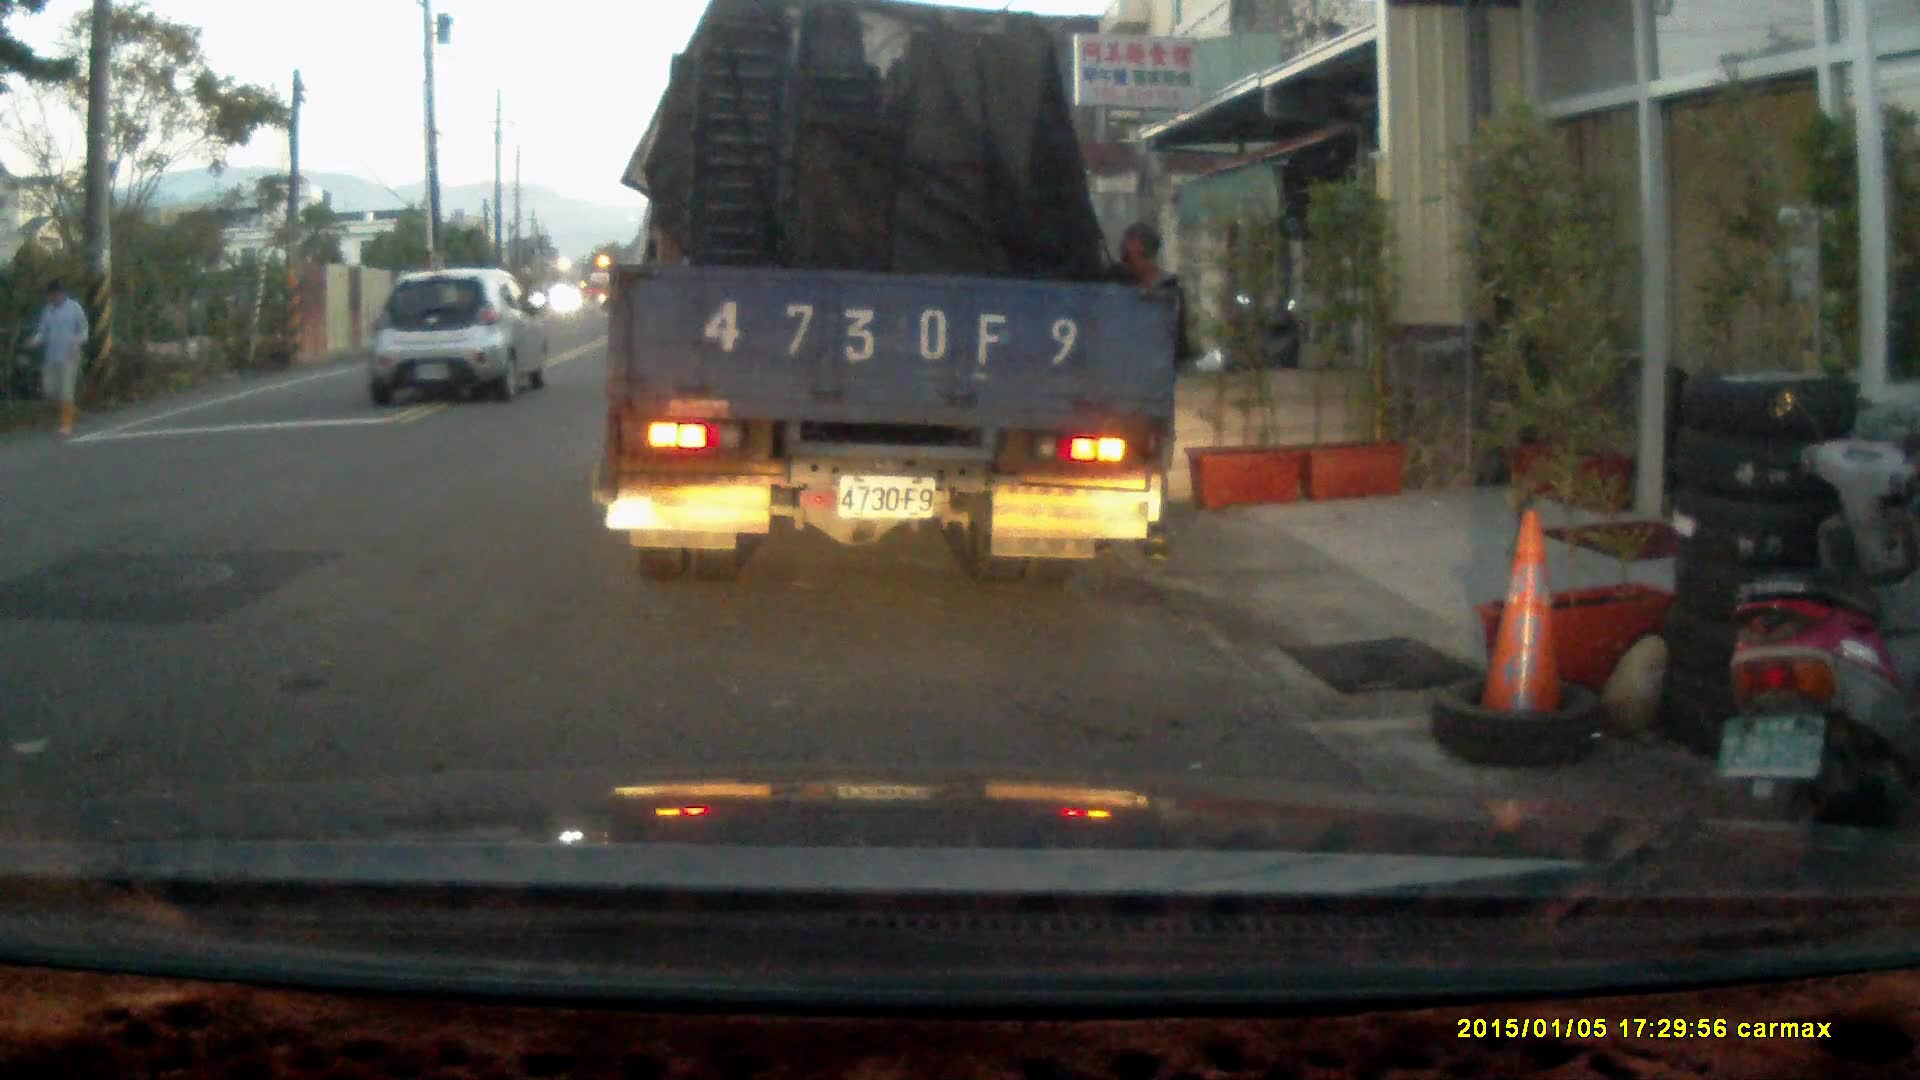pedestrian: (1086, 215, 1188, 566), (16, 279, 90, 436)
vehicle: (603, 23, 1186, 572), (360, 261, 546, 410)
